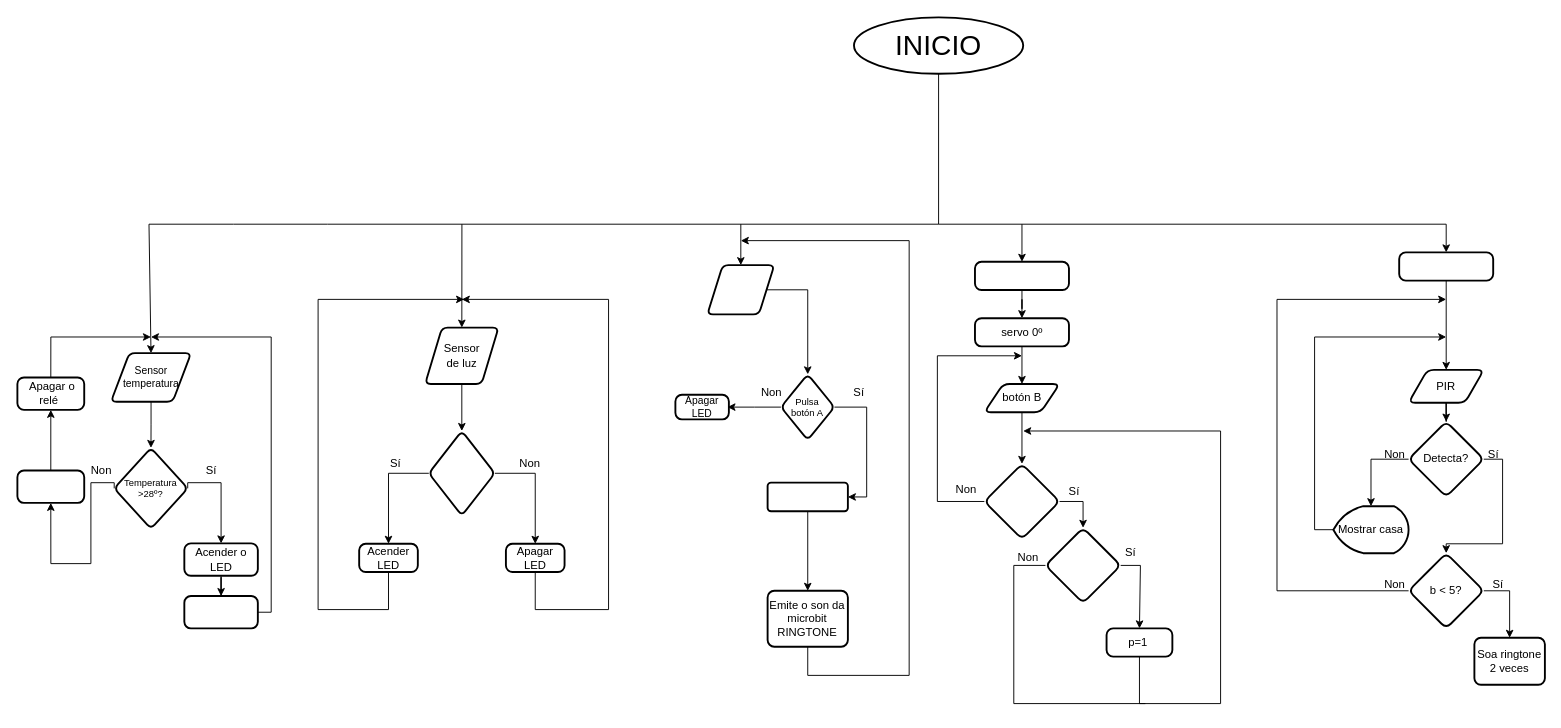
This 1561x728 diagram has some shape labels left out. Each missing label, with the centre of its shape:
Acender o LED 5 seg: (807,496)
Acender o Relé: (220,612)
Apaga o LED: (50,486)
b = 0: (1446,266)
B presionado?: (1021,501)
Botón A: (740,289)
Luz <700?: (461,473)
P = 0: (1021,275)
p=0?: (1082,564)
